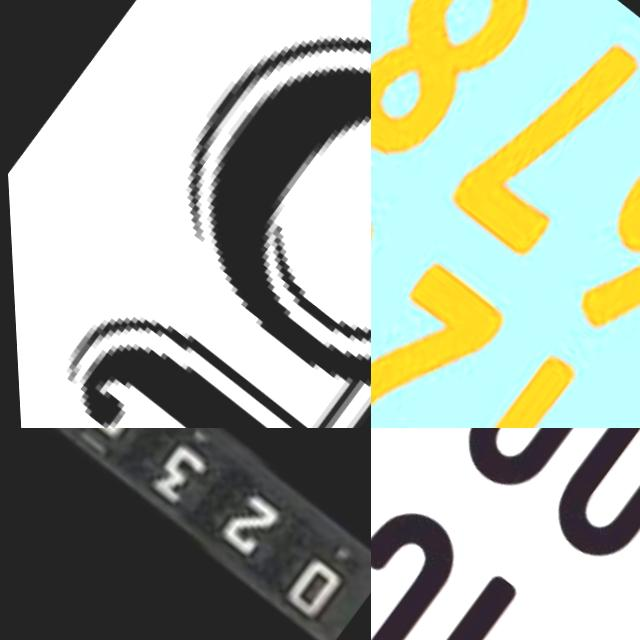0: (525, 428, 640, 579), (432, 428, 640, 506), (269, 540, 345, 620)
1: (398, 334, 600, 428), (371, 551, 554, 640)
2: (371, 241, 515, 428), (209, 477, 286, 561)
3: (139, 430, 211, 509)
5: (0, 0, 371, 428)
6: (535, 82, 640, 359)
7: (432, 0, 640, 265)
8: (371, 0, 553, 178)
9: (76, 428, 151, 444)
C: (371, 470, 483, 640)
